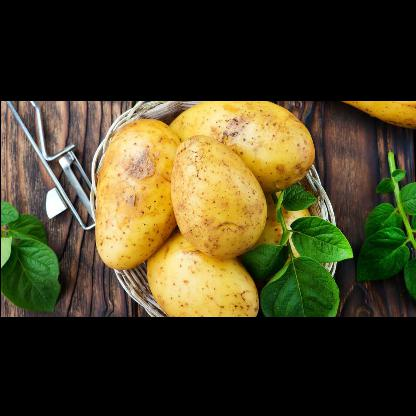potato: (167, 99, 313, 193), (93, 116, 180, 268), (170, 133, 266, 257), (146, 230, 258, 314), (342, 98, 415, 126)
